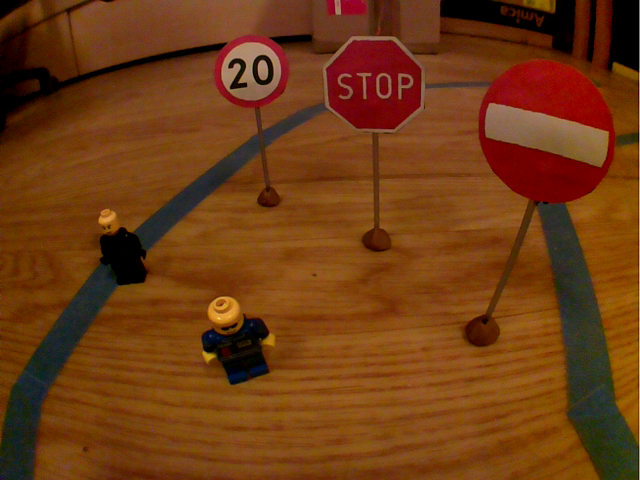Ograniczenie 20: (210, 32, 294, 111)
Postac LEGO: (197, 292, 281, 390), (92, 205, 156, 288)
Stop: (317, 31, 431, 138)
Zakaz: (470, 55, 621, 207)
